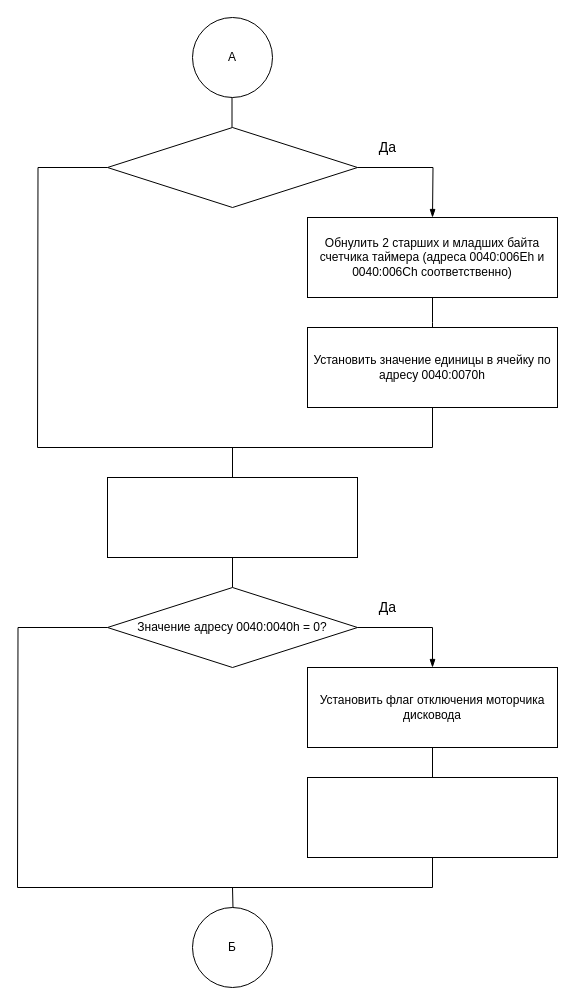
The diagram is 575 pixels wide and 1005 high, and some of its shapes have lost their labels. Here are the shapes that lost their labels. From the top down, the centre of each, then its label:
pixel 232 167: 2 старших байта счетчика = 24 и 2 младших байта счетчика = 176?
pixel 232 517: Декрементировать счетчик до отключения моторчика дисковода (адрес 0040:0040h)
pixel 432 817: Послать команду отключения моторчика (0Ch) в порт дисковода (3F2h)
